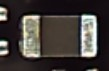COMP: (14, 13, 101, 61)
GAP: (1, 16, 31, 54)
